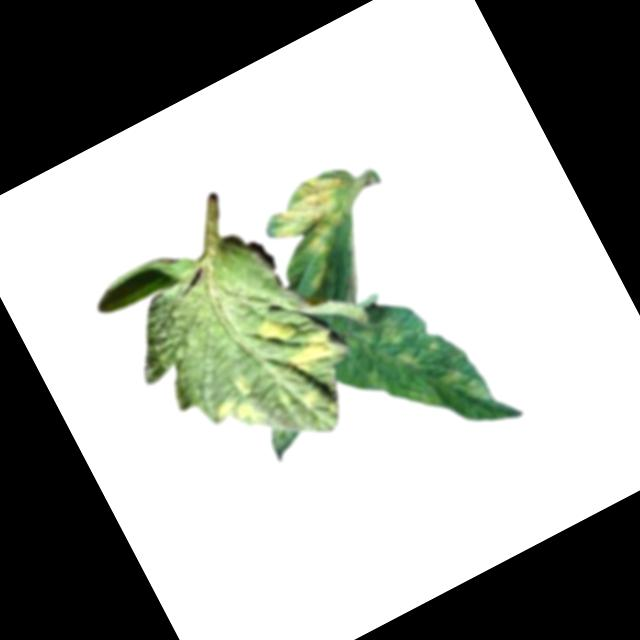Leaf_Mold: (259, 165, 379, 294), (205, 371, 269, 440), (379, 312, 440, 377), (434, 357, 493, 417), (284, 328, 346, 380), (250, 306, 299, 356)
